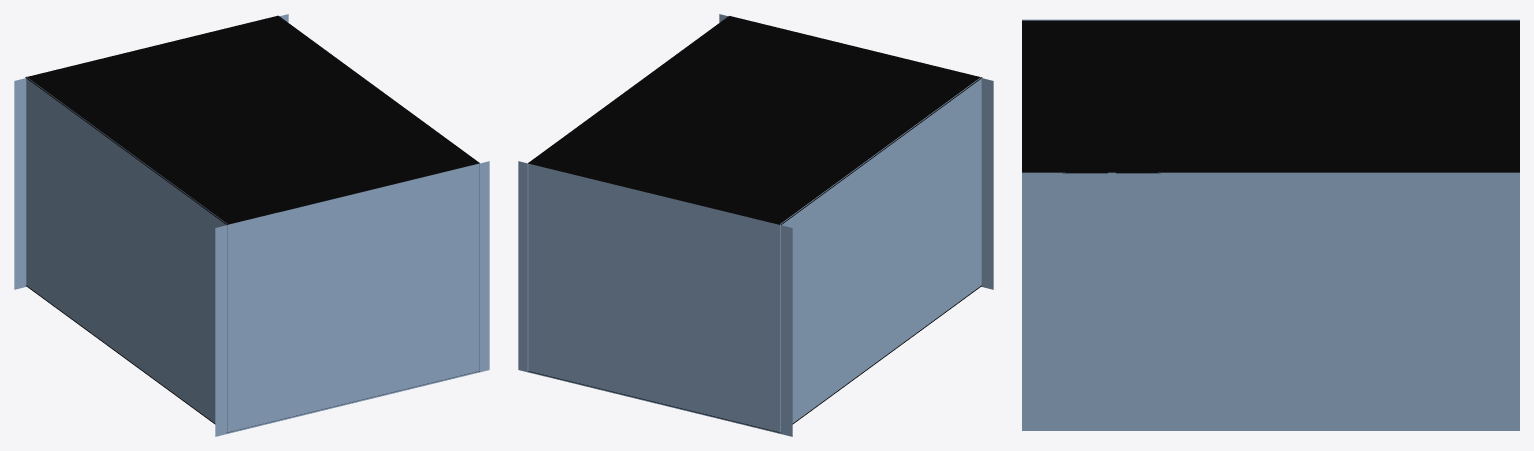
Rendered from TestTable.glb.
The picture shows the model from 3 angles, left to right: view 1: azimuth 30°, elevation 25°; view 2: azimuth 150°, elevation 25°; view 3: azimuth 270°, elevation 25°; orthographic projection. The views are drawn at different scales.
Visible parts, largest first — view 1: Plane.005, Plane.001, Plane.002, Plane.004, Plane; view 2: Plane.004, Plane.001, Plane.002, Plane.005, Plane; view 3: Plane.003, Plane.001, Plane.002.
Part boxes in pixels (x1=…): Plane.005: x1=215, y1=161, x2=489, y2=436; Plane.001: x1=25, y1=15, x2=479, y2=224; Plane.002: x1=26, y1=76, x2=227, y2=432; Plane.004: x1=14, y1=14, x2=288, y2=289; Plane: x1=26, y1=285, x2=479, y2=432; Plane.004: x1=518, y1=161, x2=792, y2=436; Plane.001: x1=528, y1=16, x2=982, y2=224; Plane.002: x1=780, y1=77, x2=981, y2=432; Plane.005: x1=719, y1=14, x2=993, y2=289; Plane: x1=528, y1=285, x2=981, y2=432; Plane.003: x1=1022, y1=173, x2=1519, y2=430; Plane.001: x1=1022, y1=20, x2=1519, y2=172; Plane.002: x1=1022, y1=19, x2=1519, y2=173.
Bounding box in the file's own units: 5.5 × 4.03 × 7.
